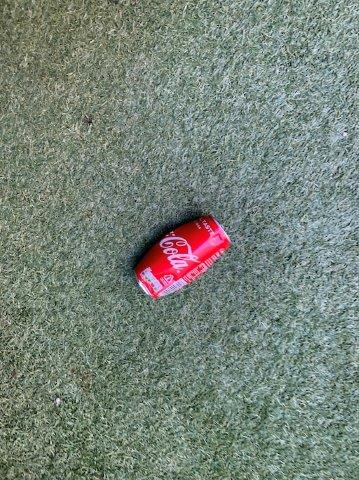kaleng: (135, 218, 231, 296)
